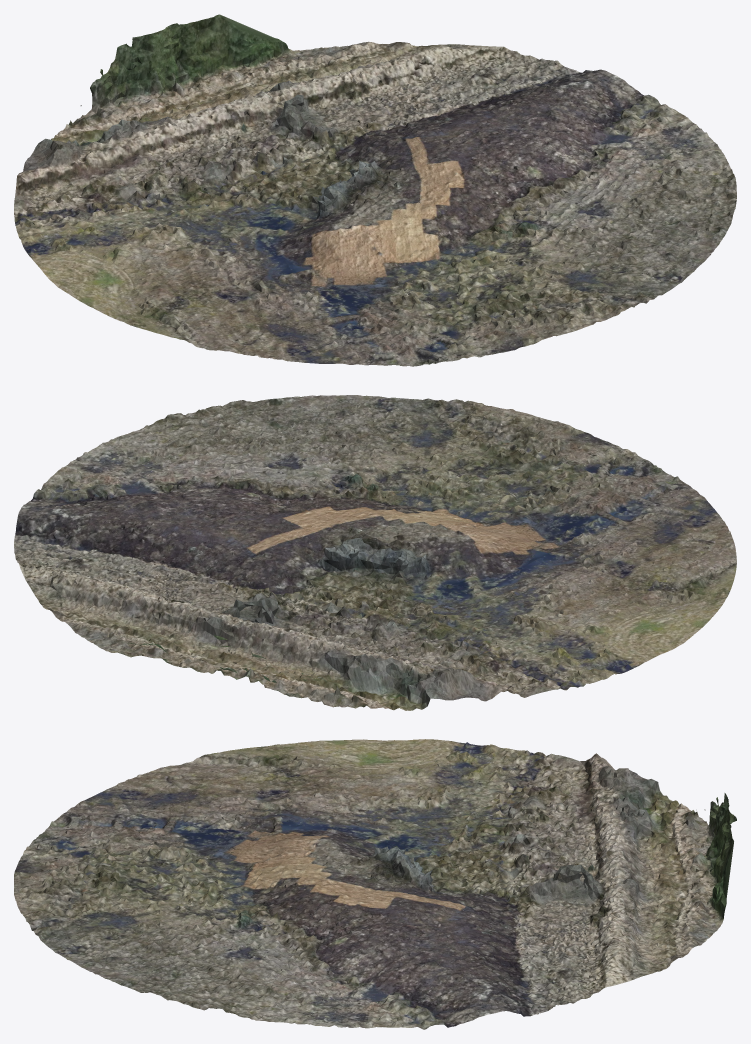
Rendered from Geotextile.glb.
3 views of the same model, one above another, from view 1: azimuth 30°, elevation 25°; view 2: azimuth 150°, elevation 25°; view 3: azimuth 270°, elevation 25° (orthographic).
Bounding box in the file's own units: 152 × 14.98 × 152.
1 material, 1 textured.
